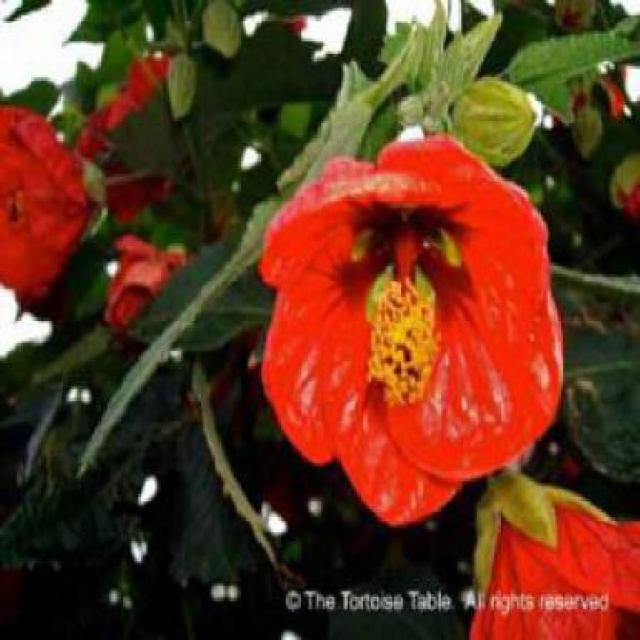Flower: (263, 136, 565, 525), (369, 279, 435, 410)
